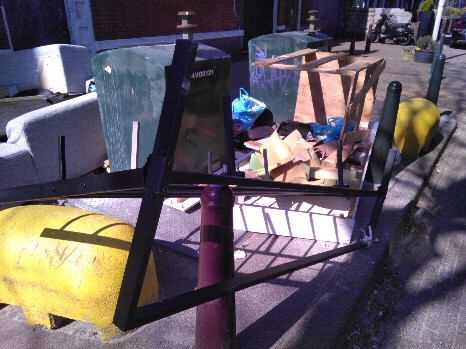Container: (103, 40, 235, 173), (261, 24, 310, 120)
Rest: (73, 143, 373, 251), (237, 90, 356, 180), (270, 53, 409, 128)
